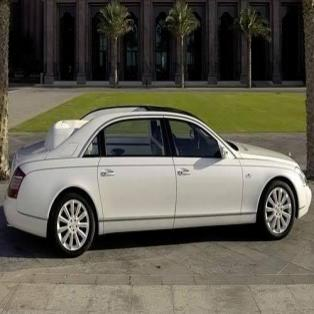Auto: (4, 107, 311, 260)
